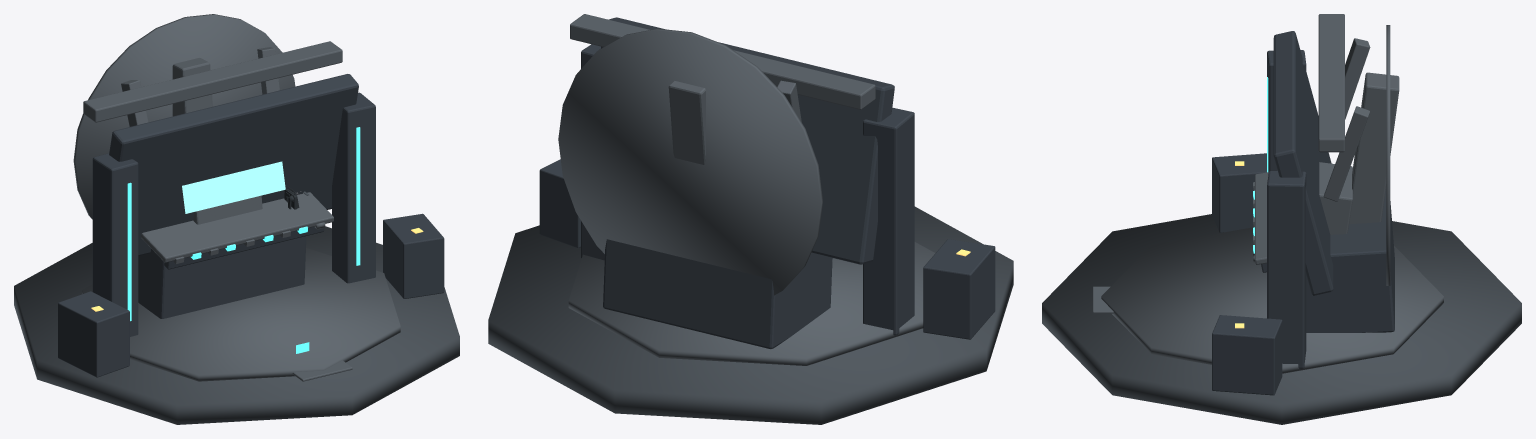
The model's file is quest_base_scene_v1.glb.
3 views of the same model, side by side, from view 1: azimuth 30°, elevation 25°; view 2: azimuth 150°, elevation 25°; view 3: azimuth 270°, elevation 25° (orthographic). The views are drawn at different scales.
Visible parts, largest first — view 1: BasePlatform, MainPanelFrame, InnerPlatform, RearHalo, MainPedestal, RightDataPylon, LeftDataPylon, OverheadBridge, ConsoleShelf, LeftPlinth, RightPlinth, MainPanelScreen (+7 smaller); view 2: RearHalo, BasePlatform, MainPedestal, InnerPlatform, MainPanelFrame, LeftDataPylon, LeftPlinth, OverheadBridge, RearSpine, RightPlinth, RightDataPylon; view 3: BasePlatform, InnerPlatform, MainPanelFrame, MainPedestal, RightDataPylon, RightPlinth, RearSpine, OverheadBridge, LeftPlinth, PedestalNeck, BridgeStrut_R, RearHalo (+3 smaller).
Part boxes in pixels (left/top/right/bottom): BasePlatform: left=14, top=226, right=459, bottom=424; MainPanelFrame: left=109, top=74, right=358, bottom=255; InnerPlatform: left=82, top=248, right=400, bottom=381; RearHalo: left=73, top=14, right=295, bottom=219; MainPedestal: left=138, top=236, right=306, bottom=318; RightDataPylon: left=332, top=92, right=375, bottom=283; LeftDataPylon: left=92, top=153, right=138, bottom=336; OverheadBridge: left=83, top=41, right=342, bottom=122; ConsoleShelf: left=141, top=192, right=333, bottom=262; LeftPlinth: left=58, top=291, right=129, bottom=377; RightPlinth: left=383, top=213, right=444, bottom=298; MainPanelScreen: left=182, top=161, right=285, bottom=213; RearHalo: left=558, top=28, right=822, bottom=295; BasePlatform: left=488, top=206, right=1013, bottom=424; MainPedestal: left=603, top=239, right=832, bottom=349; InnerPlatform: left=568, top=242, right=935, bottom=365; MainPanelFrame: left=601, top=17, right=894, bottom=264; LeftDataPylon: left=863, top=107, right=914, bottom=335; LeftPlinth: left=923, top=239, right=995, bottom=339; OverheadBridge: left=570, top=14, right=875, bottom=109; RearSpine: left=668, top=80, right=705, bottom=164; RightPlinth: left=539, top=159, right=580, bottom=248; RightDataPylon: left=581, top=44, right=604, bottom=260; BasePlatform: left=1042, top=214, right=1521, bottom=424; InnerPlatform: left=1101, top=227, right=1443, bottom=373; MainPanelFrame: left=1273, top=31, right=1333, bottom=295; MainPedestal: left=1306, top=187, right=1394, bottom=332; RightDataPylon: left=1267, top=171, right=1306, bottom=368; RightPlinth: left=1212, top=315, right=1282, bottom=395; RearSpine: left=1349, top=72, right=1399, bottom=224; OverheadBridge: left=1318, top=14, right=1344, bottom=152; LeftPlinth: left=1212, top=153, right=1266, bottom=232; PedestalNeck: left=1319, top=162, right=1352, bottom=234; BridgeStrut_R: left=1323, top=106, right=1370, bottom=201; RearHalo: left=1386, top=25, right=1390, bottom=285.
Bounding box in the file's own units: 5.1 × 3.47 × 5.1.
9 materials, 1 textured.
